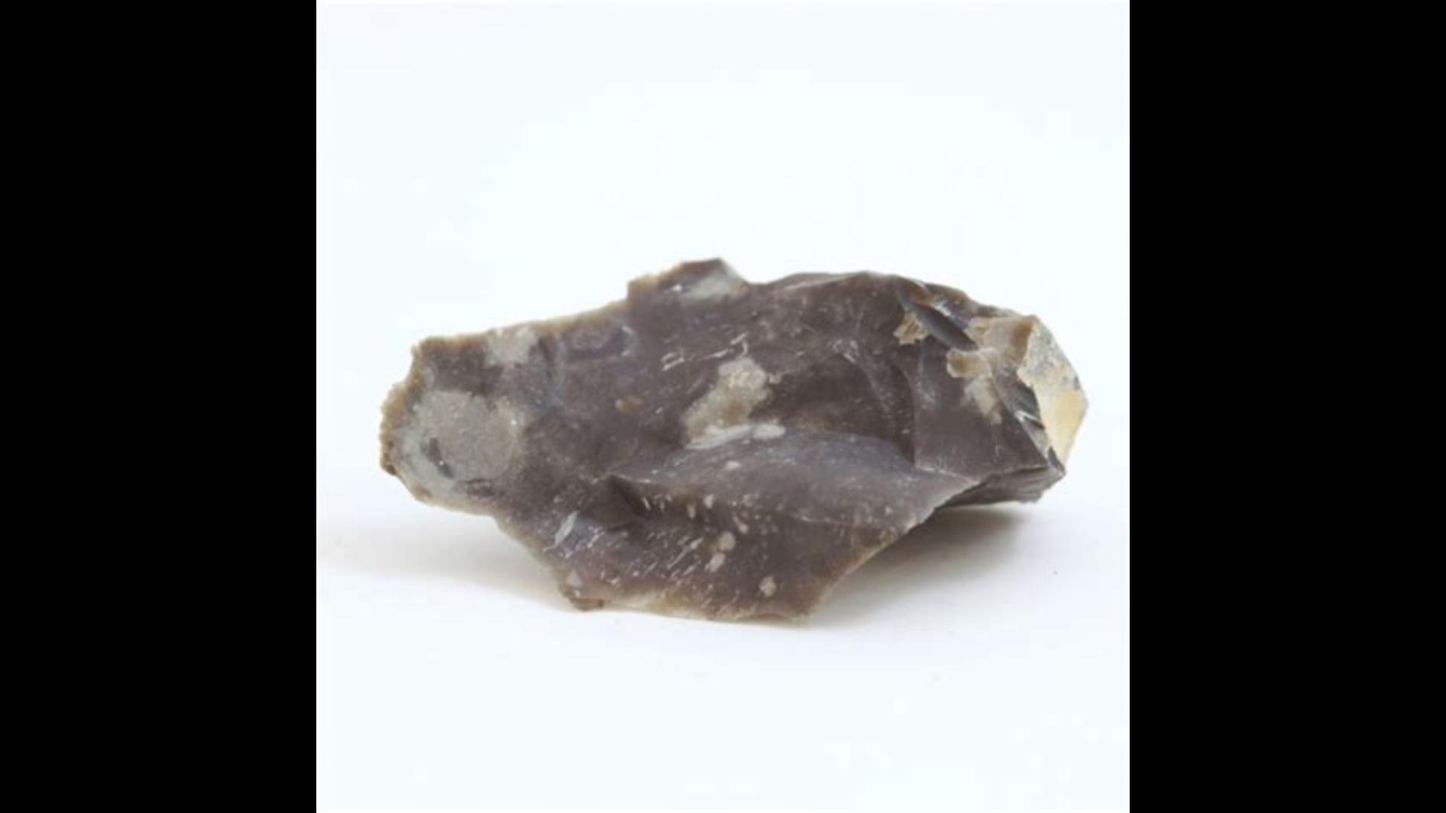rock: (383, 259, 1083, 617)
